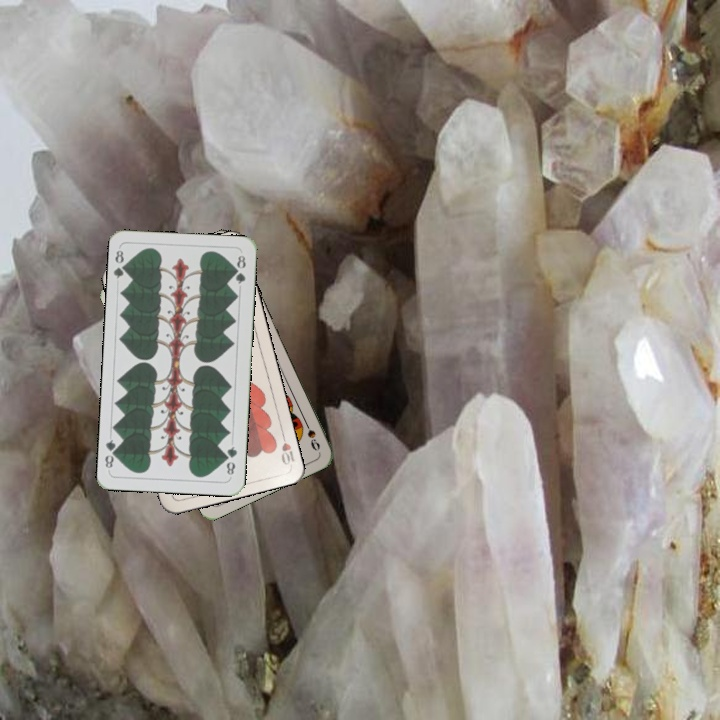G8: (110, 246, 131, 281), (222, 442, 239, 478)
H10: (277, 428, 298, 468)
S9: (299, 415, 323, 453)
